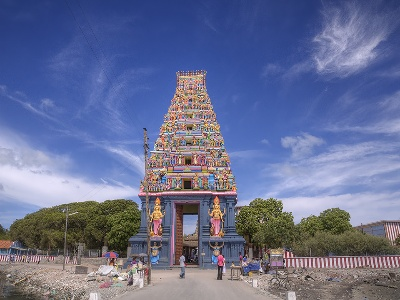gopura: (144, 72, 244, 192)
